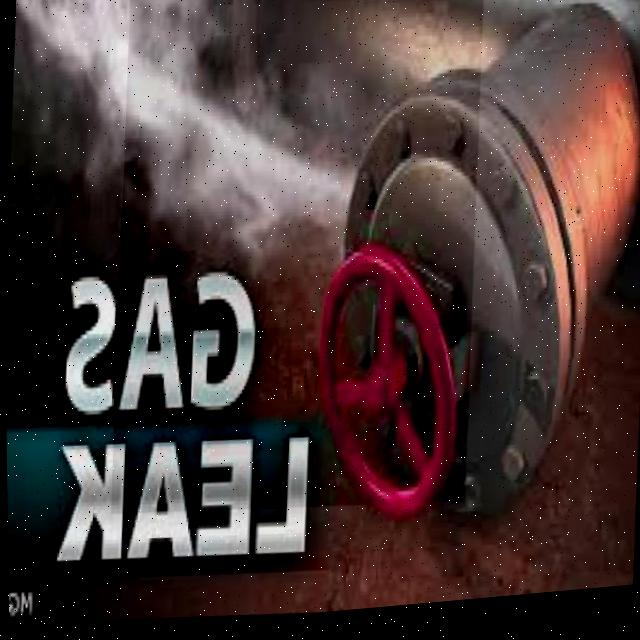corrosion: (111, 0, 484, 514)
